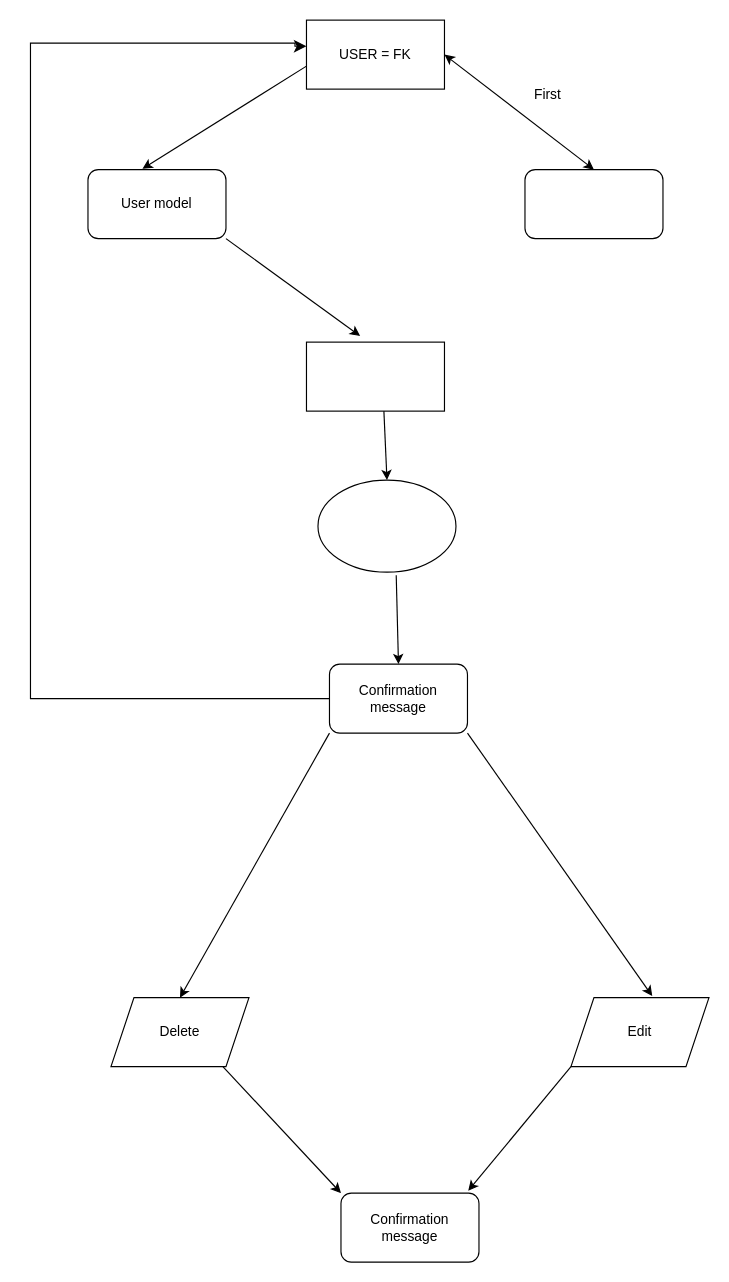
This 729x1282 diagram has some shape labels left out. Here are the shapes that lost their labels. From the top down, the centre of each, then its label:
At point 593,203: "singUp".
At point 374,376: "Booking appointment".
At point 386,525: "Date".
